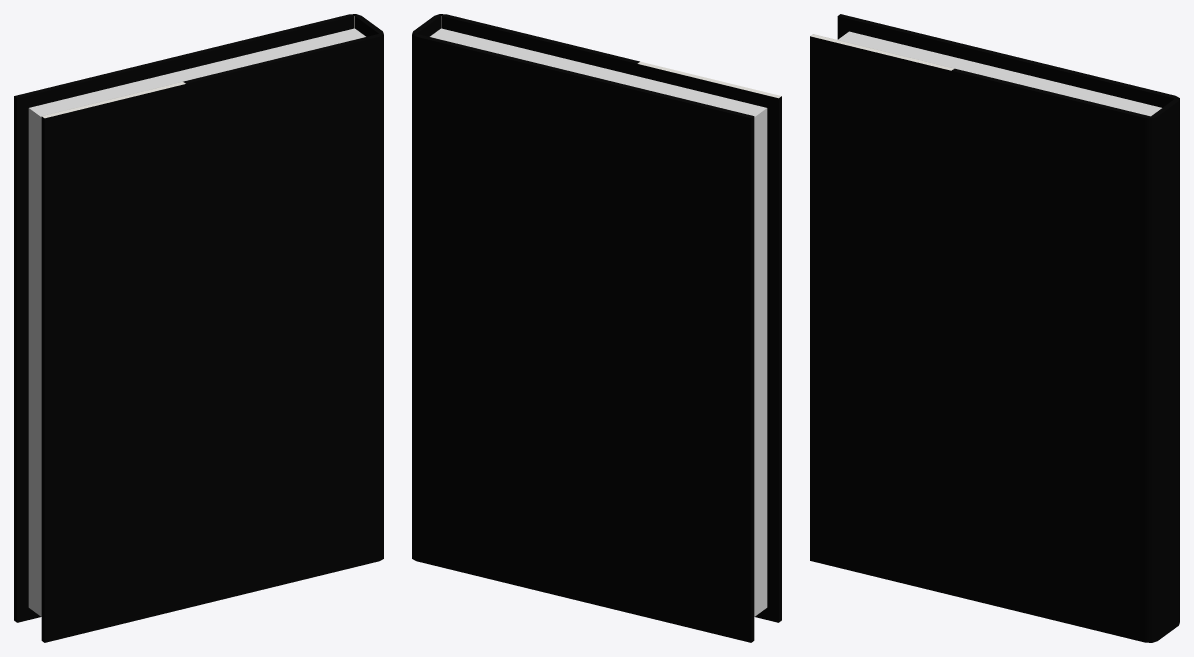
File: book.glb
3 renders of one model, left to right at view 1: azimuth 30°, elevation 25°; view 2: azimuth 150°, elevation 25°; view 3: azimuth 330°, elevation 25°, orthographic.
Visible parts, largest first — view 1: Book; view 2: Book; view 3: Book.
Part boxes in pixels (x1,y1,x2,y2): Book: [14, 14, 383, 642]; Book: [412, 14, 781, 642]; Book: [810, 14, 1179, 642].
Bounding box in the file's own units: 0.13 × 0.19 × 0.02.
2 materials, 1 textured.
